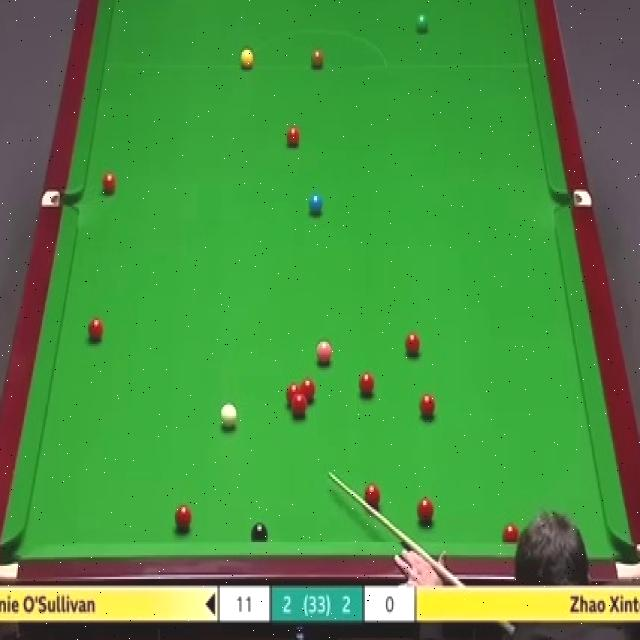black-ball: (250, 522, 268, 542)
blue-ball: (308, 192, 323, 217)
brown-ball: (309, 46, 324, 71)
green-ball: (413, 13, 430, 34)
pink-ball: (316, 336, 333, 365)
red-ball: (403, 330, 422, 361), (86, 315, 105, 345), (363, 482, 381, 511), (416, 498, 434, 526), (175, 504, 192, 532), (418, 390, 435, 418), (284, 123, 302, 148), (101, 170, 117, 198), (358, 371, 374, 398), (301, 378, 316, 406), (503, 522, 520, 544), (292, 396, 306, 418), (286, 383, 300, 405)
white-ball: (219, 400, 239, 436)
yellow-ball: (239, 47, 254, 68)
